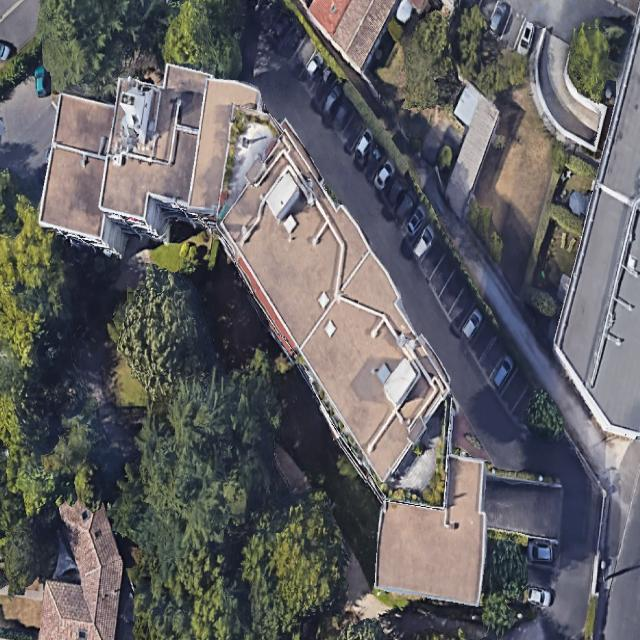immeuble: (185, 125, 480, 486), (25, 39, 284, 284), (370, 447, 497, 605)
maison: (38, 498, 128, 640)
